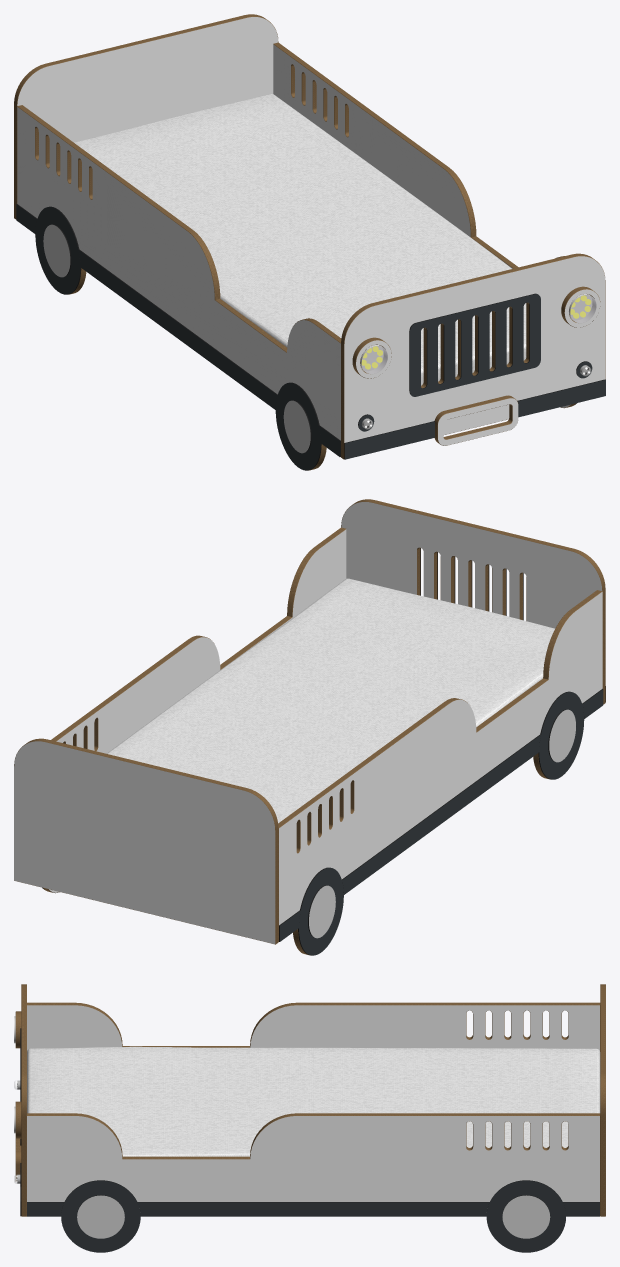
Rendered from Bed180x80.glb.
3 views of the same model, one above another, from view 1: azimuth 30°, elevation 25°; view 2: azimuth 150°, elevation 25°; view 3: azimuth 270°, elevation 25° (orthographic). The views are drawn at different scales.
Parts seen in each view (by area): view 1: Bed180x80; view 2: Bed180x80; view 3: Bed180x80.
Boxes of the visible parts, <box> form: Bed180x80: <box>14,14,605,470</box>; Bed180x80: <box>14,499,605,955</box>; Bed180x80: <box>14,984,605,1252</box>.
Size of the model in its own units: 0.852 by 0.575 by 1.86.
Materials: 16 (4 with a texture image).
